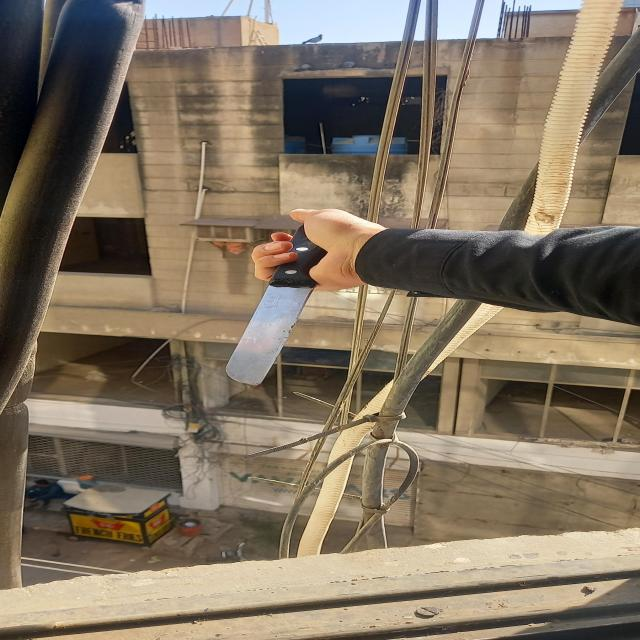weapon: (226, 223, 331, 386)
